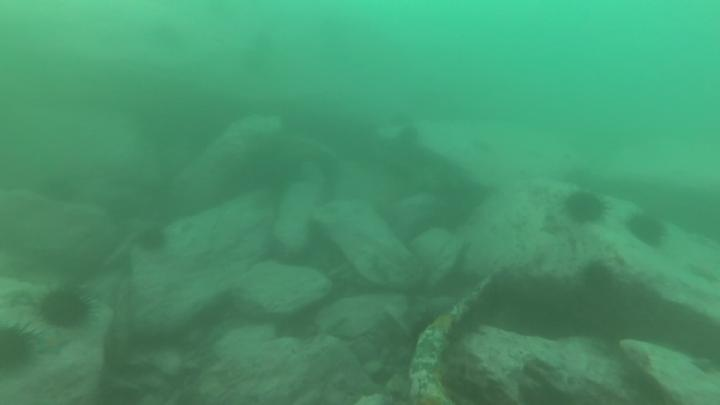echinus: (36, 283, 100, 333), (1, 322, 50, 386), (560, 185, 612, 228), (625, 207, 669, 253), (34, 172, 85, 208), (581, 259, 618, 297), (132, 224, 169, 255)
